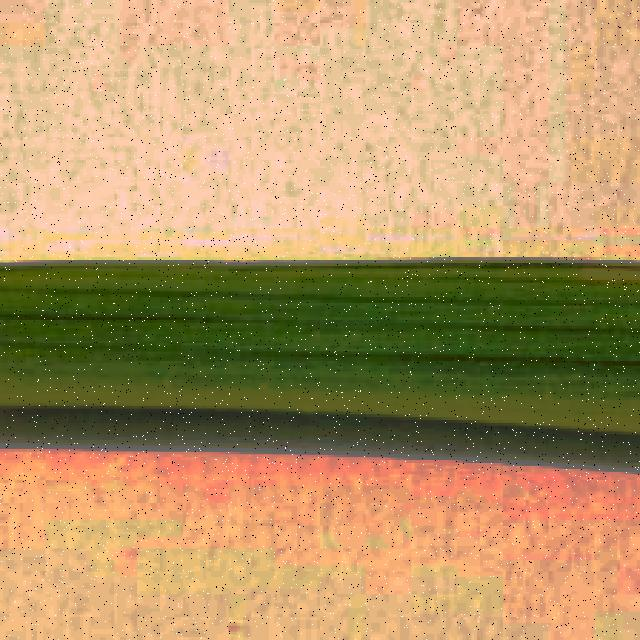unhealth: (0, 264, 640, 404)
